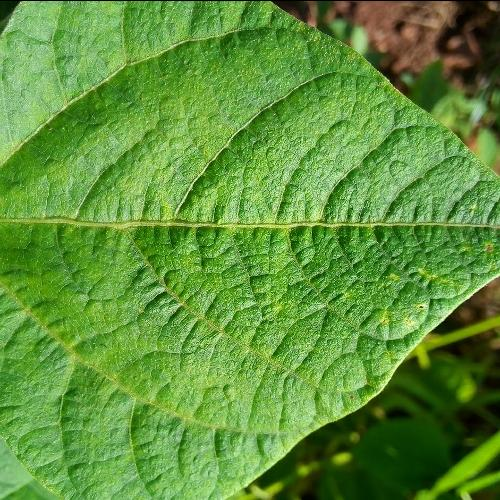mozaik: (18, 38, 264, 468), (278, 94, 386, 372)
